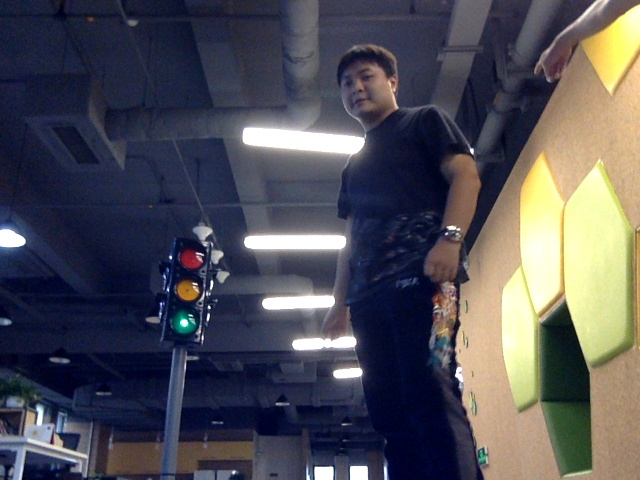green: (169, 242, 205, 340)
